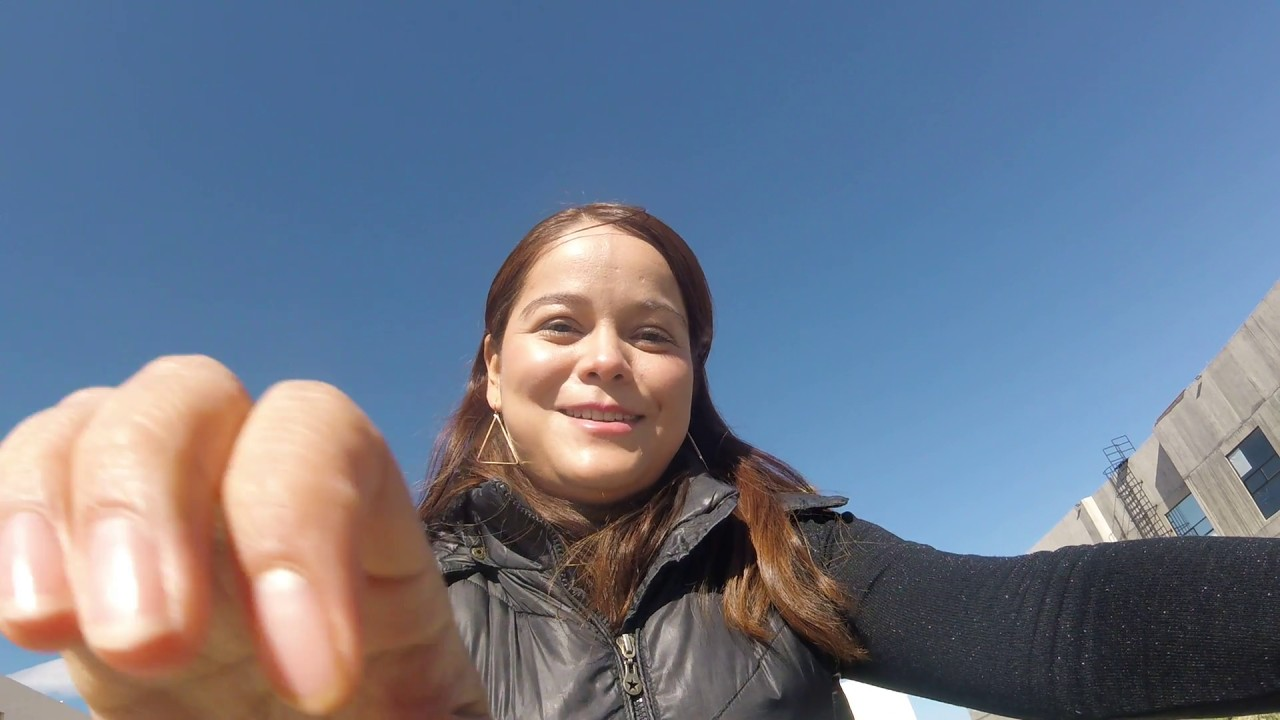Without Helmet: (468, 190, 733, 525)
